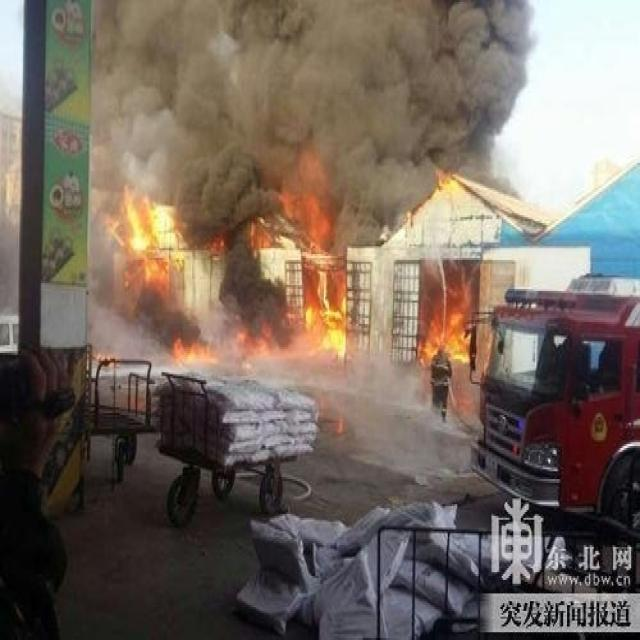Fire: (237, 188, 347, 357), (104, 186, 184, 293), (416, 281, 471, 369), (432, 168, 464, 200), (172, 338, 208, 364)
Smoke: (88, 2, 544, 477)
